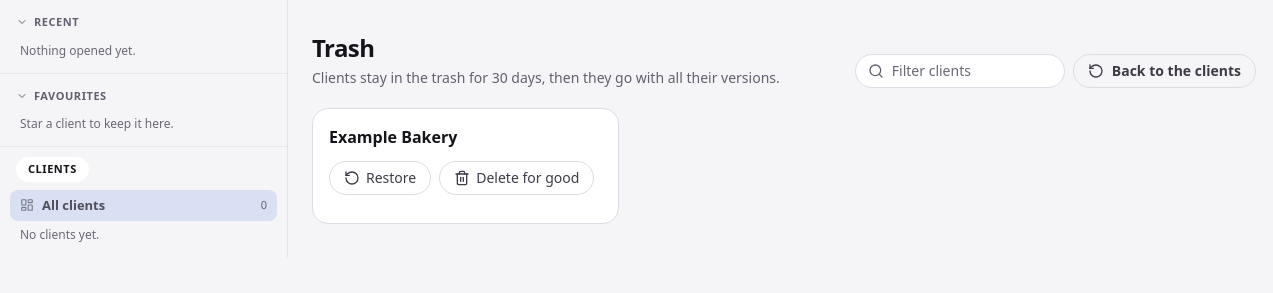
Test: the bin › says why bringing back failed instead of doing nothing
Step 1. Click the button "Restore" → (380, 178), box [329,161,431,195]
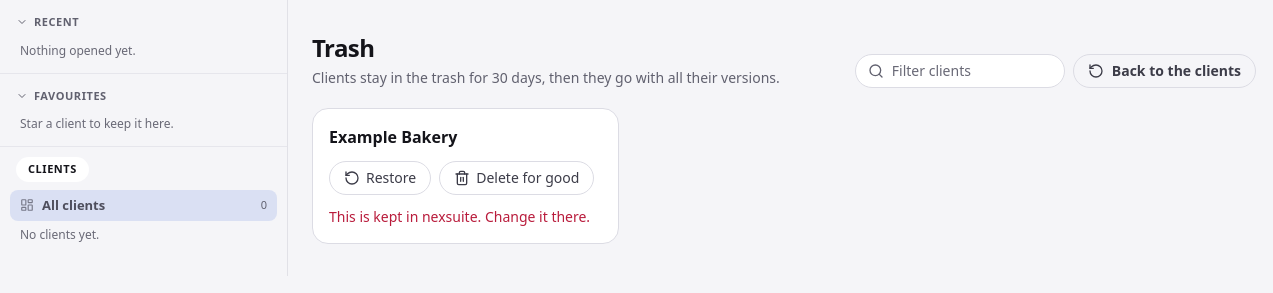
Now the text "This is kept in nexsuite. Change it there." is shown, box [329,207,602,227]
